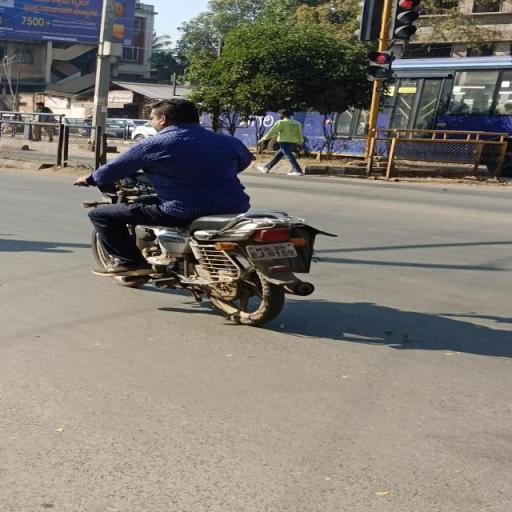bike: (70, 97, 326, 330)
numberplate: (244, 241, 300, 262)
withouthelmet: (149, 100, 197, 129)
